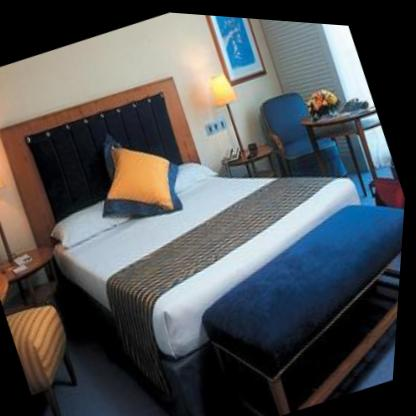Bed: (0, 12, 415, 416)
Chair: (242, 63, 354, 192)
Table: (179, 170, 408, 416), (295, 81, 408, 209)
